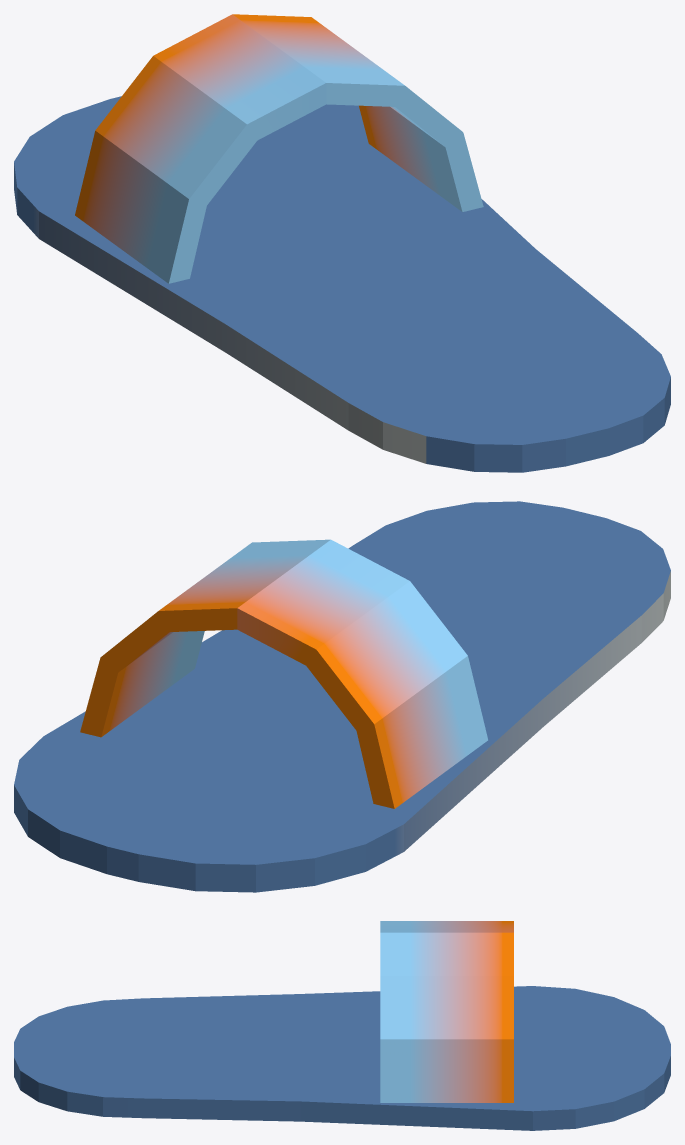
File: Slippers (1).obj
3 views of the same model, one above another, from view 1: azimuth 30°, elevation 25°; view 2: azimuth 150°, elevation 25°; view 3: azimuth 270°, elevation 25° (orthographic). The views are drawn at different scales.
Parts seen in each view (by area): view 1: Slippers (1); view 2: Slippers (1); view 3: Slippers (1).
Boxes of the visible parts, x1=… form: Slippers (1): x1=14, y1=14, x2=670, y2=472; Slippers (1): x1=14, y1=501, x2=670, y2=892; Slippers (1): x1=14, y1=921, x2=670, y2=1130.
Size of the model in its own units: 0.2352 by 0.1188 by 0.5213.
